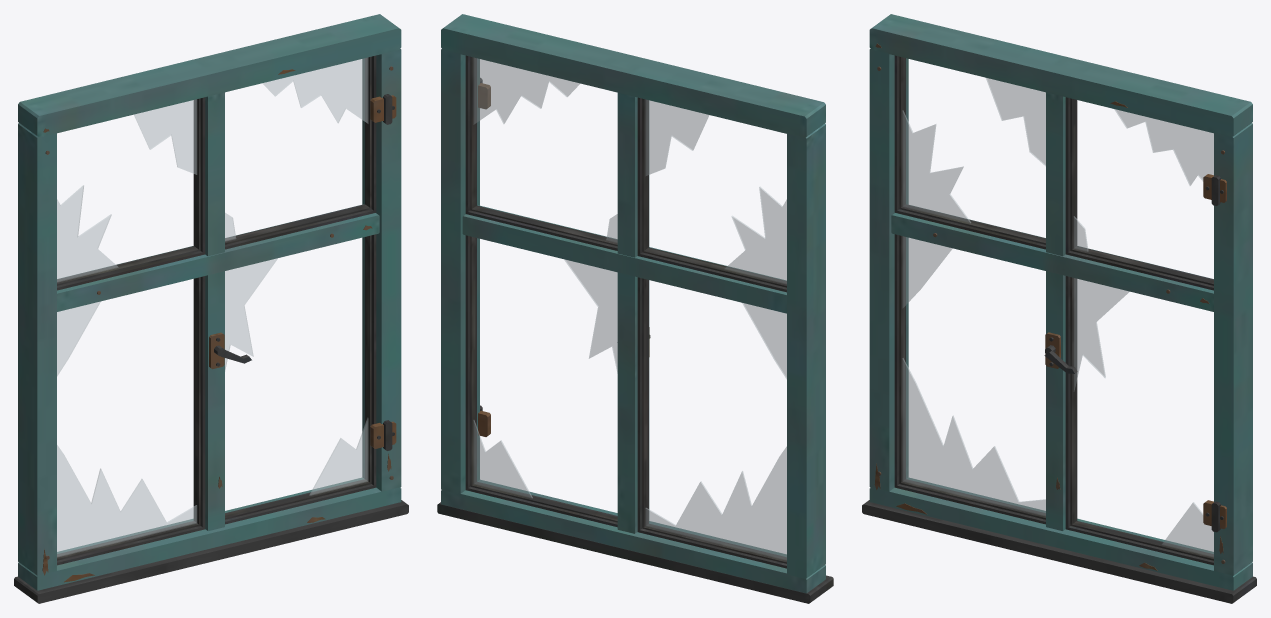
The model's file is F48_broken_window_frame.glb.
3 renders of one model, left to right at view 1: azimuth 30°, elevation 25°; view 2: azimuth 150°, elevation 25°; view 3: azimuth 330°, elevation 25°, orthographic.
Parts seen in each view (by area): view 1: Broken window frame; view 2: Broken window frame; view 3: Broken window frame.
Part boxes in pixels (x1,y1,x2,y2): Broken window frame: (14, 14, 408, 603); Broken window frame: (437, 14, 833, 603); Broken window frame: (862, 14, 1256, 603).
Bounding box in the file's own units: 1.2 × 1.5 × 0.137.
5 materials, 4 textured.
